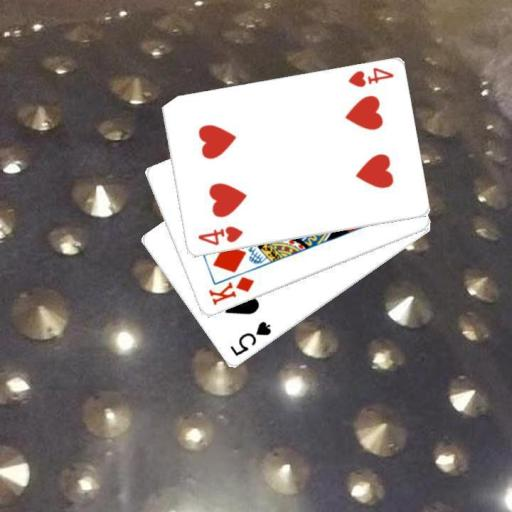card-corner: (227, 318, 273, 358), (205, 274, 256, 307), (345, 64, 395, 90), (195, 224, 244, 248)
